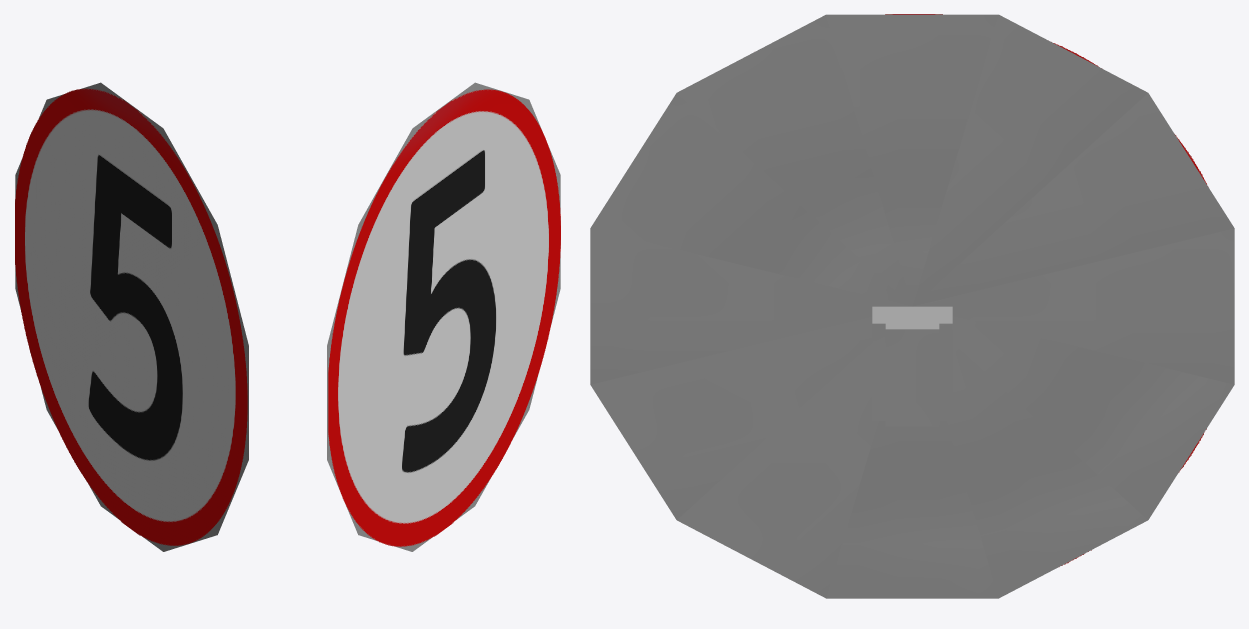
The model's file is speed_5_medium.obj.
The picture shows the model from 3 angles, left to right: view 1: azimuth 30°, elevation 25°; view 2: azimuth 150°, elevation 25°; view 3: azimuth 270°, elevation 25°; orthographic projection. The views are drawn at different scales.
Parts seen in each view (by area): view 1: cube, circle; view 2: cube, circle; view 3: circle, cube.
Part boxes in pixels (bbox=[...]): cube: bbox=[15, 88, 247, 545]; circle: bbox=[15, 82, 248, 551]; cube: bbox=[328, 89, 560, 546]; circle: bbox=[327, 82, 560, 551]; circle: bbox=[590, 14, 1234, 598]; cube: bbox=[872, 14, 1206, 565].
Size of the model in its own units: 0.0641 by 0.75 by 0.75.
Materials: 2 (2 with a texture image).
